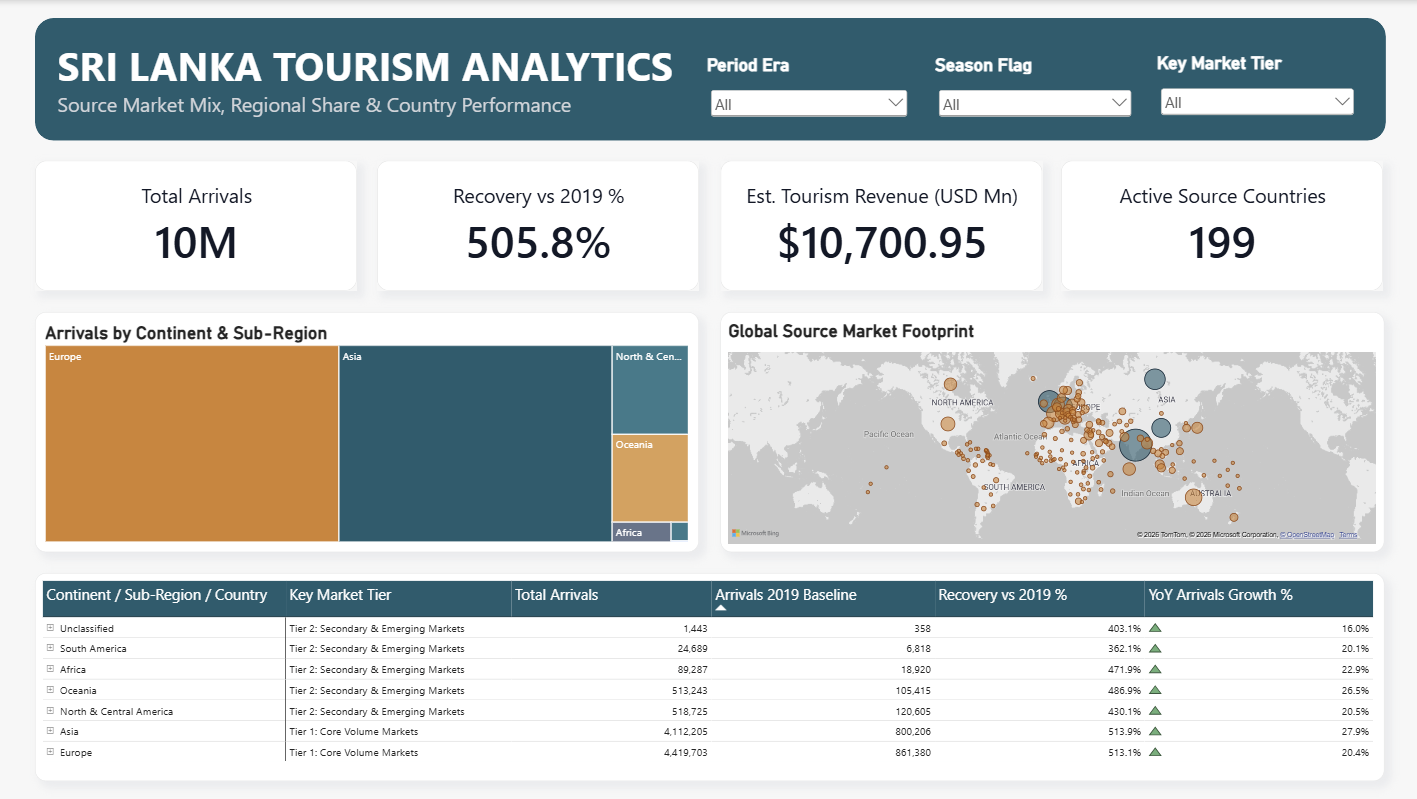

The dashboard page shown, as its layout file describes it:
{"tool":"powerbi","page":{"name":"Market & Regional Deep-Dive","canvas":[1920,1080],"ordinal":1},"visuals":[{"type":"shape","box":[47.7,25,1826.1,165.8],"z":0,"group":"g1"},{"type":"group","id":"g1","title":"Group 2","box":[47.7,25,1826.1,165.8],"z":0},{"type":"textbox","box":[77.2,53.6,929,110.5],"z":1000,"group":"g1"},{"type":"group","id":"g2","title":"Group 1","box":[47.7,217.9,1822.8,176.8],"z":1000},{"type":"slicer","title":"Period Era","fields":{"Values":["Dim_Date.Period_Era"]},"box":[955.8,73.9,275.6,88.9],"z":2000,"group":"g1"},{"type":"treemap","title":"Arrivals by Continent & Sub-Region","fields":{"Group":["Dim_Country.Continent","Dim_Country.Sub_Region"],"Values":["_Measures.Total Arrivals"]},"box":[47.7,422.5,897.2,324.8],"z":2000},{"type":"slicer","title":"Season Flag","fields":{"Values":["Dim_Date.Season_Flag"]},"box":[1263.6,73.9,270,91.1],"z":3000,"group":"g1"},{"type":"map","title":"Global Source Market Footprint","fields":{"Category":["Dim_Country.Country"],"Series":["Dim_Country.Key_Market_Tier"],"Size":["_Measures.Total Arrivals"]},"box":[974.4,422.5,897.2,324.8],"z":3000},{"type":"slicer","title":"Key Market Tier","fields":{"Values":["Dim_Country.Key_Market_Tier"]},"box":[1564.7,71.7,271.1,91.1],"z":4000,"group":"g1"},{"type":"pivotTable","fields":{"Rows":["Dim_Country.Continent","Dim_Country.Sub_Region","Dim_Country.Country"],"Values":["Min(Dim_Country.Key_Market_Tier)","_Measures.Total Arrivals","_Measures.Arrivals 2019 Baseline","_Measures.Recovery vs 2019 %","_Measures.YoY Arrivals Growth %"]},"box":[47.7,774.5,1823.9,281.6],"z":4000},{"type":"cardVisual","fields":{"Data":["_Measures.Total Arrivals"]},"box":[47.7,218,435,176],"z":5000,"group":"g2"},{"type":"cardVisual","fields":{"Data":["_Measures.Recovery vs 2019 %"]},"box":[509.5,217.9,435,176.7],"z":6000,"group":"g2"},{"type":"cardVisual","fields":{"Data":["_Measures.Est. Tourism Revenue (USD Mn)"]},"box":[974.7,218,435,176.7],"z":7000,"group":"g2"},{"type":"cardVisual","fields":{"Data":["_Measures.Active Source Countries"]},"box":[1435.5,218,435,176],"z":8000,"group":"g2"}]}

Visuals, with their boxes in screenshot pixels (x1, y1, x2, y2), scaled from the page's 1920x1080 canvas onto the 1417x799 screenshot:
shape: left=35, top=18, right=1383, bottom=141
"Group 2" group: left=35, top=18, right=1383, bottom=141
textbox: left=57, top=40, right=743, bottom=121
"Group 1" group: left=35, top=161, right=1380, bottom=292
"Period Era" slicer: left=705, top=55, right=909, bottom=120
"Arrivals by Continent & Sub-Region" treemap: left=35, top=313, right=697, bottom=553
"Season Flag" slicer: left=933, top=55, right=1132, bottom=122
"Global Source Market Footprint" map: left=719, top=313, right=1381, bottom=553
"Key Market Tier" slicer: left=1155, top=53, right=1355, bottom=120
pivotTable - Dim_Country.Continent x Dim_Country.Sub_Region: left=35, top=573, right=1381, bottom=781
cardVisual - _Measures.Total Arrivals: left=35, top=161, right=356, bottom=291
cardVisual - _Measures.Recovery vs 2019 %: left=376, top=161, right=697, bottom=292
cardVisual - _Measures.Est. Tourism Revenue (USD Mn): left=719, top=161, right=1040, bottom=292
cardVisual - _Measures.Active Source Countries: left=1059, top=161, right=1380, bottom=291
